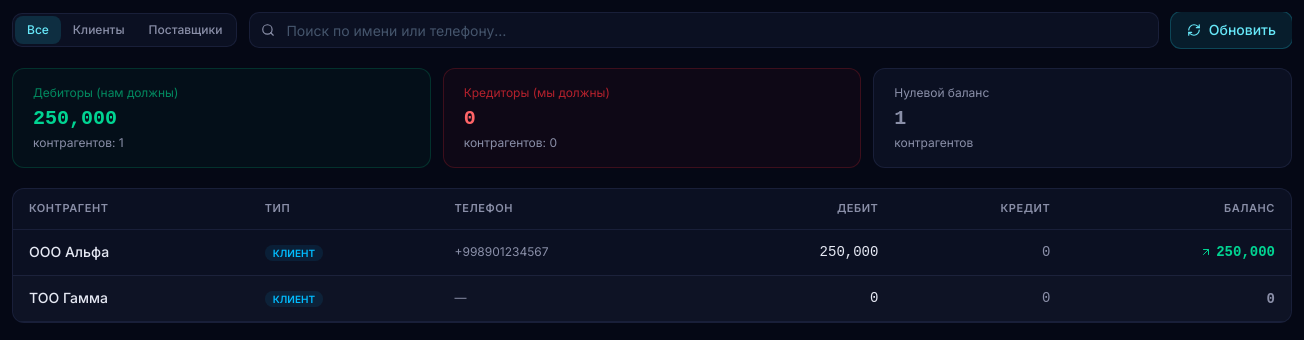
Scenario: CounterpartyBalanceReport › фильтрует по имени через поиск
Expected: the text "ООО Альфа" is shown, [13, 229, 249, 275]
Type "Альфа" into the field with placeholder "Поиск по имени или телефону…" at coordinates (704, 30), box [249, 12, 1159, 48]
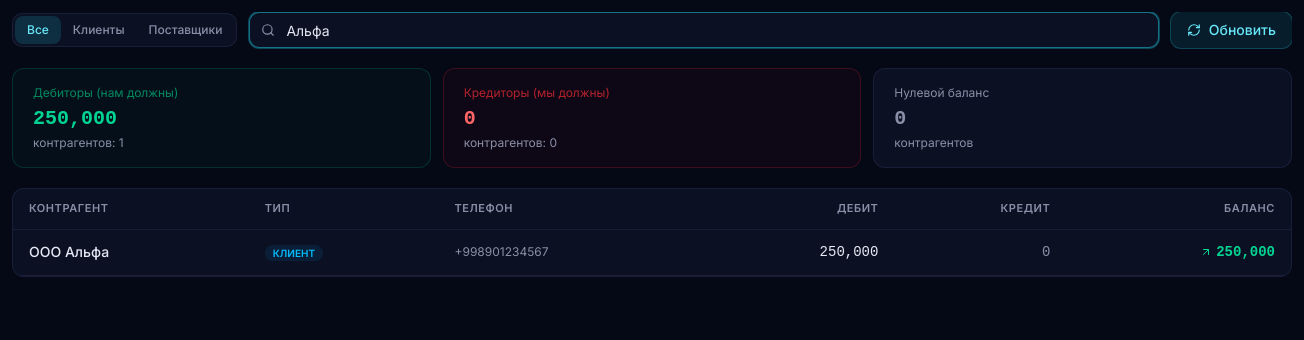
Expected: the text "ООО Альфа" is shown, [13, 229, 249, 275]
Expected: the text "ТОО Гамма" is gone
